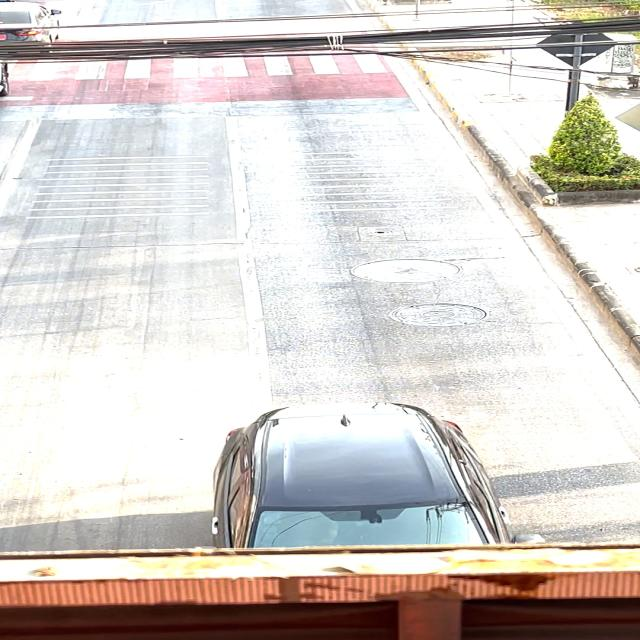car: (190, 384, 578, 558)
